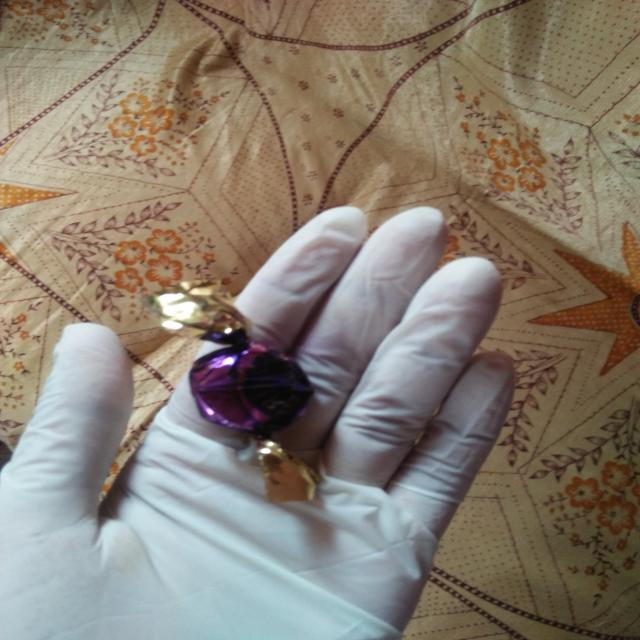gloved_hand: (6, 205, 516, 640)
